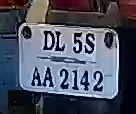1: (70, 71, 81, 93)
2: (57, 67, 71, 92), (92, 70, 105, 94)
4: (81, 68, 89, 94)
5: (72, 30, 83, 56)
A: (41, 65, 56, 92), (30, 65, 43, 89)
D: (41, 29, 56, 54)
L: (54, 31, 67, 56)
S: (83, 33, 97, 58)
